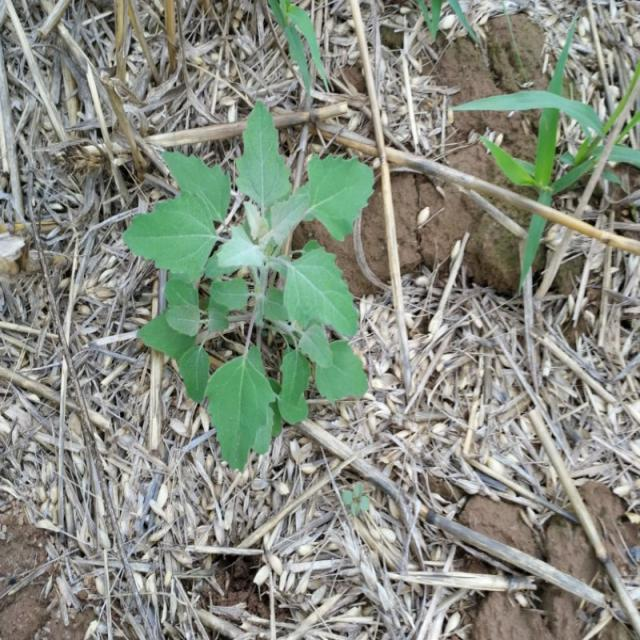goosefoots: (112, 79, 374, 450)
